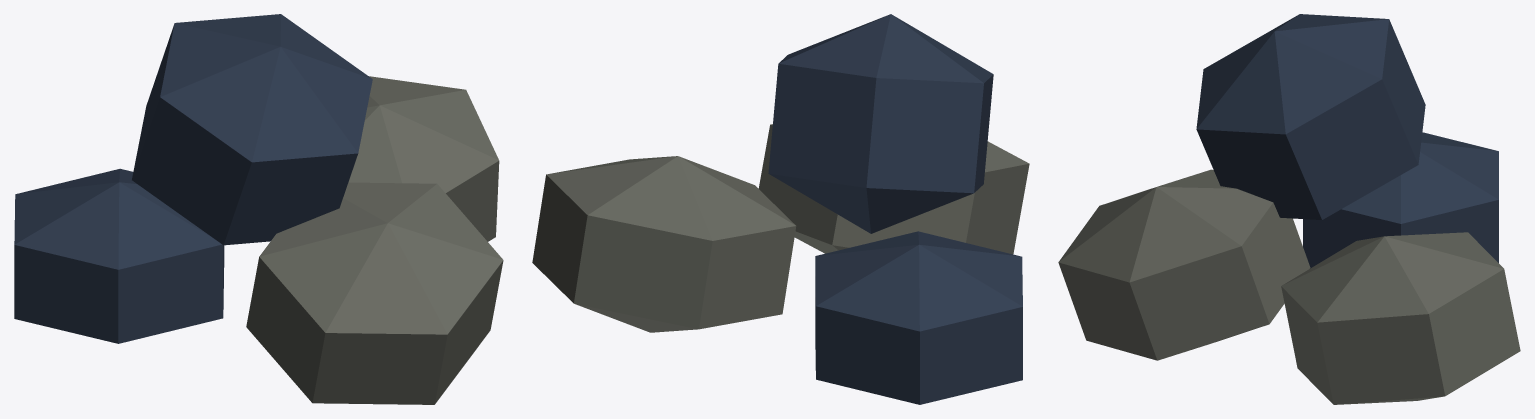
The model's file is ore-pile-2.glb.
3 renders of one model, left to right at view 1: azimuth 30°, elevation 25°; view 2: azimuth 150°, elevation 25°; view 3: azimuth 270°, elevation 25°, orthographic. The views are drawn at different scales.
Visible parts, largest first — view 1: ore_pile; view 2: ore_pile; view 3: ore_pile.
Boxes of the visible parts, x1,y1,x2,y2 form: ore_pile: (14,14,503,404); ore_pile: (532,14,1029,404); ore_pile: (1058,14,1520,404).
Bounding box in the file's own units: 0.4221 × 0.2643 × 0.3773.
